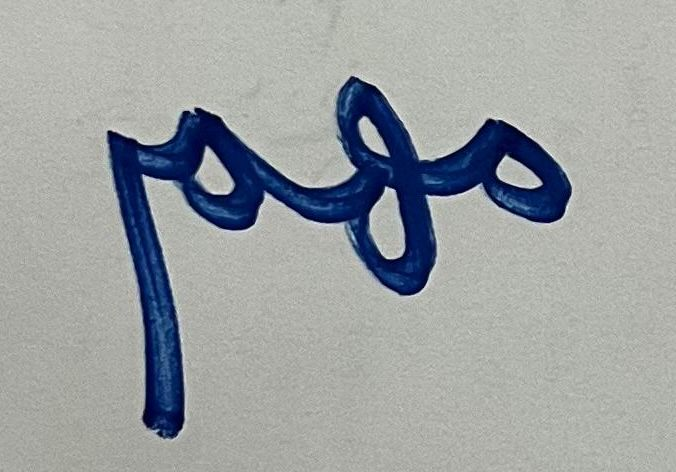heh: (292, 50, 442, 337)
meem: (78, 77, 284, 448), (447, 95, 608, 252)
